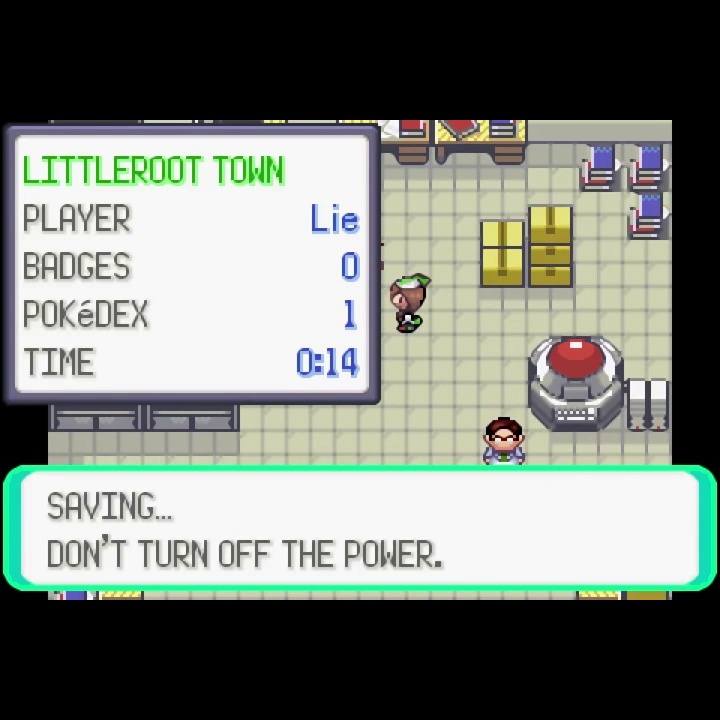npc: (387, 268, 433, 337), (478, 415, 529, 466)
